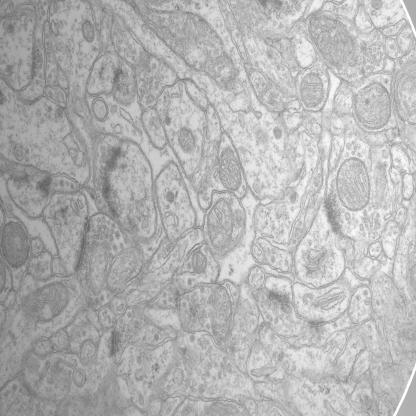mitochondria: (132, 1, 242, 89), (307, 13, 362, 72), (336, 155, 373, 215), (354, 80, 392, 131), (0, 217, 30, 269), (207, 197, 235, 250), (217, 144, 243, 194), (300, 75, 326, 109), (176, 128, 198, 156), (191, 247, 209, 277), (79, 17, 97, 43), (163, 191, 176, 205)
